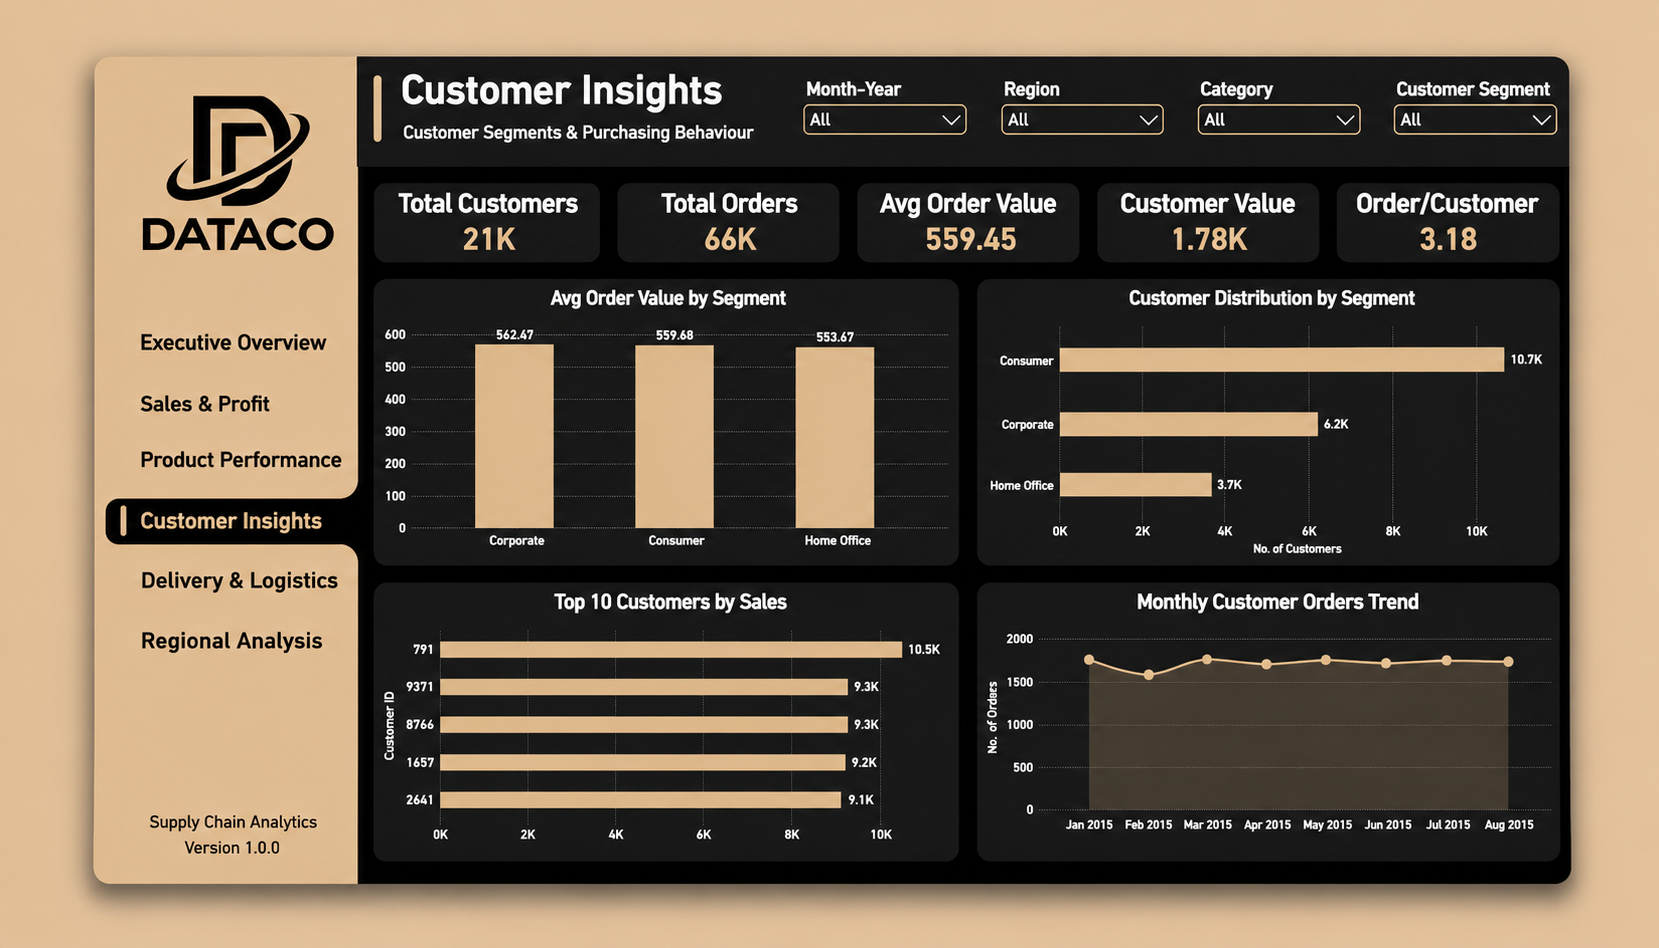

Layout of this report page (visuals, bound fields, positions):
{"tool":"powerbi","page":{"name":"Customer Insights","canvas":[2560,1440],"ordinal":3},"visuals":[{"type":"shape","box":[0,0,520,1440],"z":0},{"type":"image","box":[34.2,63.2,450,294.7],"z":1000},{"type":"shape","box":[25.8,779.2,499.2,80],"z":2000},{"type":"textbox","box":[81.6,478.9,371.1,68.4],"z":3000},{"type":"textbox","box":[81.9,583.8,371.1,68.7],"z":4000},{"type":"textbox","box":[81.9,688.8,386.7,68.7],"z":5000},{"type":"textbox","box":[81.9,793.9,372.3,69.9],"z":6000},{"type":"textbox","box":[81.9,900.2,372.3,68.7],"z":7000},{"type":"textbox","box":[81.6,1005.3,371.1,68.4],"z":8000},{"type":"textbox","box":[101.8,1346.4,304.5,43.6],"z":9000},{"type":"textbox","box":[158.8,1387.5,171.2,50],"z":10000},{"type":"actionButton","box":[74.6,583.1,255.9,61],"z":11000},{"type":"actionButton","box":[78,678,376.2,71.4],"z":12000},{"type":"actionButton","box":[79.2,679.2,375,71.7],"z":13000},{"type":"actionButton","box":[78,898.3,376.2,71.4],"z":14000},{"type":"actionButton","box":[72.9,1001.7,352.4,71.4],"z":15000},{"type":"shape","box":[50,789.2,11.7,56.7],"z":16000},{"type":"actionButton","box":[71.7,572.5,258.3,71.7],"z":17000},{"type":"actionButton","box":[72.5,465,352.5,71.7],"z":18000},{"type":"image","box":[438.9,738.9,130,48.9],"z":19000},{"type":"image","box":[440,849.1,130,48.2],"z":20000},{"type":"shape","box":[520,0,2040,192.5],"z":21000},{"type":"shape","box":[520,10,2040,192.5],"z":22000},{"type":"textbox","box":[602.3,32.3,566.2,213.1],"z":23000},{"type":"textbox","box":[604.9,117.1,641.5,53.7],"z":24000},{"type":"shape","box":[553.3,38.9,16.7,115.6],"z":25000},{"type":"shape","box":[2251,87,282,52],"z":26000},{"type":"shape","box":[1921.4,86.4,277.9,52.1],"z":27000},{"type":"shape","box":[1591.4,86.4,277.9,52.1],"z":28000},{"type":"shape","box":[1260.8,87.5,277.5,52.5],"z":29000},{"type":"slicer","fields":{"Values":["supply_chain_ops dataco_cleaned.Customer Segment"]},"box":[2249,50,284,324],"z":30000},{"type":"slicer","fields":{"Values":["supply_chain_ops dataco_cleaned.Category Name"]},"box":[1920,48.8,280,322],"z":31000},{"type":"slicer","fields":{"Values":["supply_chain_ops dataco_cleaned.Order Region"]},"box":[1590,48.8,280,322],"z":32000},{"type":"slicer","fields":{"Values":["supply_chain_ops dataco_cleaned.Month-Year"]},"box":[1260,50,280,320],"z":33000},{"type":"cardVisual","fields":{"Data":["MeasureTable.Total Orders"]},"box":[955,230,370,130],"z":34000},{"type":"cardVisual","fields":{"Data":["MeasureTable.Total Customers"]},"box":[552.5,230,370,130],"z":35000},{"type":"cardVisual","fields":{"Data":["MeasureTable.Average Order Value"]},"box":[1357.5,230,370,130],"z":36000},{"type":"cardVisual","fields":{"Data":["MeasureTable.Sales per Customer"]},"box":[1760,230,370,130],"z":37000},{"type":"cardVisual","fields":{"Data":["MeasureTable.Average Orders per Customer"]},"box":[2162.5,230,370,130],"z":38000},{"type":"clusteredColumnChart","title":"Avg Order Value by Segment","fields":{"Category":["supply_chain_ops dataco_cleaned.Customer Segment"],"Y":["MeasureTable.Avg Order Value"]},"box":[552.5,392.5,967.5,505],"z":39000},{"type":"barChart","title":"Customer Distribution by Segment ","fields":{"Category":["supply_chain_ops dataco_cleaned.Customer Segment"],"Y":["Count(supply_chain_ops dataco_cleaned.Customer Id)"]},"box":[1565,390,967.5,507.5],"z":40000},{"type":"barChart","title":"Top 10 Customers by Sales","fields":{"Category":["supply_chain_ops dataco_cleaned.Customer ID Label"],"Y":["MeasureTable.Total Sales"]},"box":[552.5,935,967.5,477.5],"z":41000},{"type":"shape","box":[1487.5,990,20,390],"z":42000},{"type":"lineChart","title":"Monthly Customer Orders Trend","fields":{"Category":["supply_chain_ops dataco_cleaned.Month-Year"],"Y":["MeasureTable.Total Orders"]},"box":[1565,935,967.5,477.5],"z":43000},{"type":"shape","box":[1647.5,1385,867.5,27.5],"z":44000}]}

Visuals, with their boxes in screenshot pixels (x1, y1, x2, y2), scaled from the page's 2560x1440 canvas onto the 1659x948 screenshot:
shape: <bbox>0, 0, 337, 947</bbox>
image: <bbox>22, 42, 314, 236</bbox>
shape: <bbox>17, 513, 340, 566</bbox>
textbox: <bbox>53, 315, 293, 360</bbox>
textbox: <bbox>53, 384, 294, 430</bbox>
textbox: <bbox>53, 453, 304, 499</bbox>
textbox: <bbox>53, 523, 294, 569</bbox>
textbox: <bbox>53, 593, 294, 638</bbox>
textbox: <bbox>53, 662, 293, 707</bbox>
textbox: <bbox>66, 886, 263, 915</bbox>
textbox: <bbox>103, 913, 214, 946</bbox>
actionButton: <bbox>48, 384, 214, 424</bbox>
actionButton: <bbox>51, 446, 294, 493</bbox>
actionButton: <bbox>51, 447, 294, 494</bbox>
actionButton: <bbox>51, 591, 294, 638</bbox>
actionButton: <bbox>47, 659, 276, 706</bbox>
shape: <bbox>32, 520, 40, 557</bbox>
actionButton: <bbox>46, 377, 214, 424</bbox>
actionButton: <bbox>47, 306, 275, 353</bbox>
image: <bbox>284, 486, 369, 519</bbox>
image: <bbox>285, 559, 369, 591</bbox>
shape: <bbox>337, 0, 1658, 127</bbox>
shape: <bbox>337, 7, 1658, 133</bbox>
textbox: <bbox>390, 21, 757, 162</bbox>
textbox: <bbox>392, 77, 808, 112</bbox>
shape: <bbox>359, 26, 369, 102</bbox>
shape: <bbox>1459, 57, 1642, 92</bbox>
shape: <bbox>1245, 57, 1425, 91</bbox>
shape: <bbox>1031, 57, 1211, 91</bbox>
shape: <bbox>817, 58, 997, 92</bbox>
slicer - supply_chain_ops dataco_cleaned.Customer Segment: <bbox>1457, 33, 1642, 246</bbox>
slicer - supply_chain_ops dataco_cleaned.Category Name: <bbox>1244, 32, 1426, 244</bbox>
slicer - supply_chain_ops dataco_cleaned.Order Region: <bbox>1030, 32, 1212, 244</bbox>
slicer - supply_chain_ops dataco_cleaned.Month-Year: <bbox>817, 33, 998, 244</bbox>
cardVisual - MeasureTable.Total Orders: <bbox>619, 151, 859, 237</bbox>
cardVisual - MeasureTable.Total Customers: <bbox>358, 151, 598, 237</bbox>
cardVisual - MeasureTable.Average Order Value: <bbox>880, 151, 1120, 237</bbox>
cardVisual - MeasureTable.Sales per Customer: <bbox>1141, 151, 1380, 237</bbox>
cardVisual - MeasureTable.Average Orders per Customer: <bbox>1401, 151, 1641, 237</bbox>
"Avg Order Value by Segment" clusteredColumnChart: <bbox>358, 258, 985, 591</bbox>
"Customer Distribution by Segment " barChart: <bbox>1014, 257, 1641, 591</bbox>
"Top 10 Customers by Sales" barChart: <bbox>358, 616, 985, 930</bbox>
shape: <bbox>964, 652, 977, 908</bbox>
"Monthly Customer Orders Trend" lineChart: <bbox>1014, 616, 1641, 930</bbox>
shape: <bbox>1068, 912, 1630, 930</bbox>
